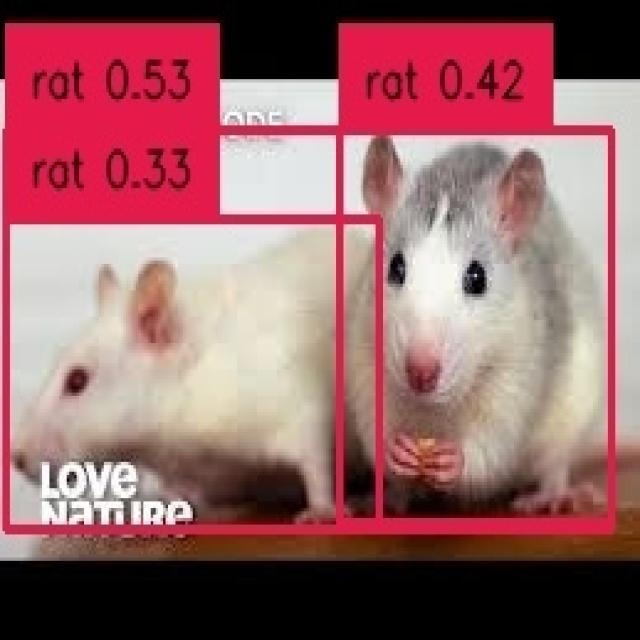rat: (2, 126, 608, 524), (2, 215, 376, 524), (336, 125, 608, 518)
